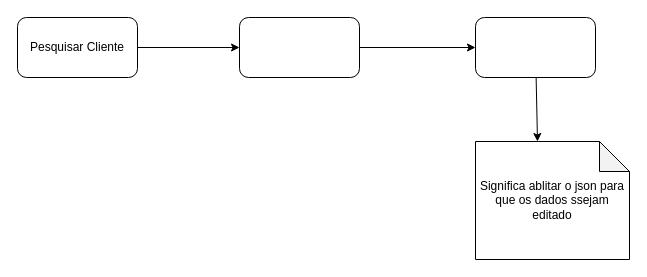
This 647x277 diagram has some shape labels left out. Here are the shapes that lost their labels. From the top down, the centre of each, then its label:
At [299,47]: "Clicar no botão editar".
At [535,47]: "Abrir campo para editar os dados".
